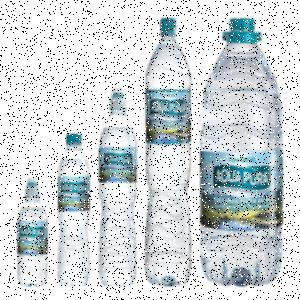Plastic-bottle: (201, 17, 287, 287), (145, 18, 195, 288), (98, 86, 140, 288), (58, 130, 92, 289), (17, 177, 50, 288)
